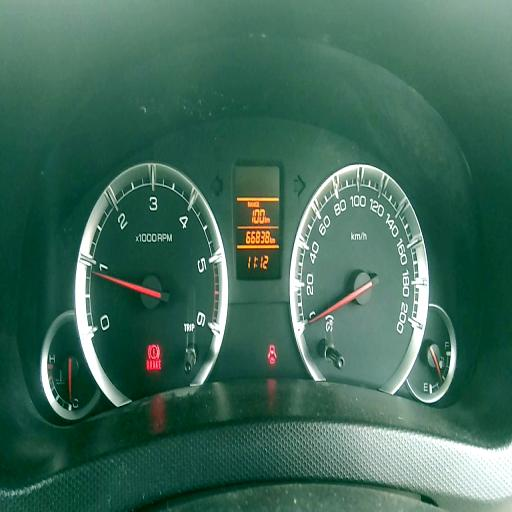brake_system_fault: (148, 344, 160, 360)
tachometer: (75, 161, 228, 406)
